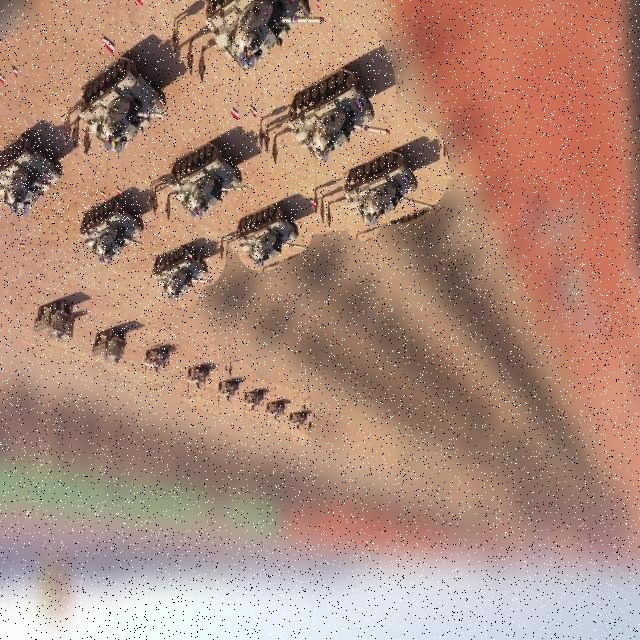MIL_MBT: (78, 59, 168, 155), (291, 64, 377, 161), (343, 149, 424, 228), (0, 130, 64, 219), (79, 196, 145, 266), (153, 247, 211, 302)
